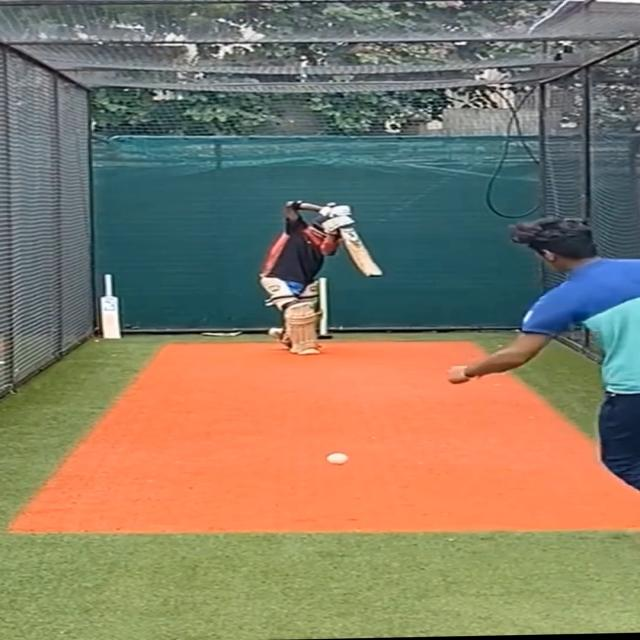ball: (320, 451, 356, 470)
